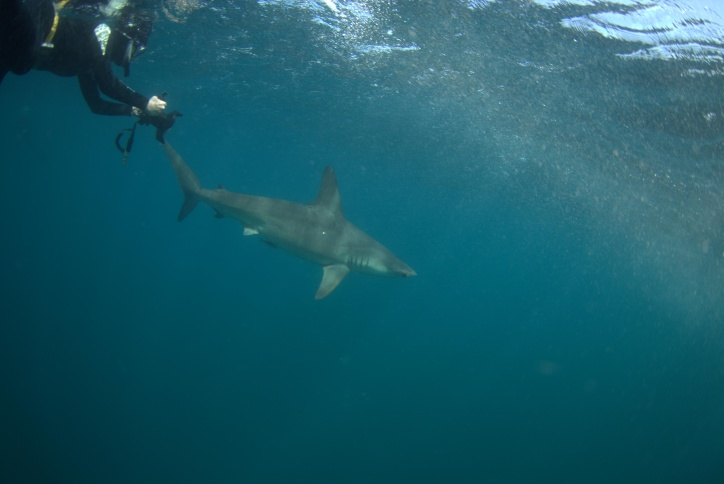Hammer: (118, 129, 432, 319)
